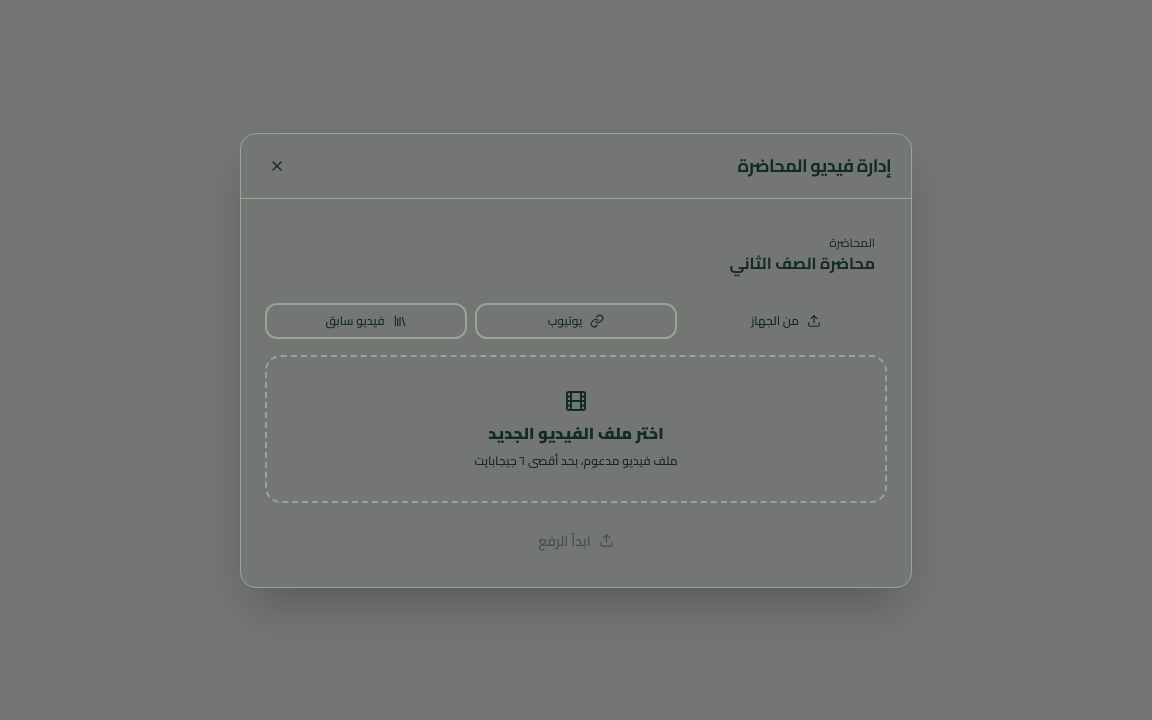
Test: reusing an uploaded video › finds an older uploaded video through server search
The width and height of the screenshot is (1152, 720).
Click the button "فيديو سابق" at (366, 320), box [265, 302, 467, 338]
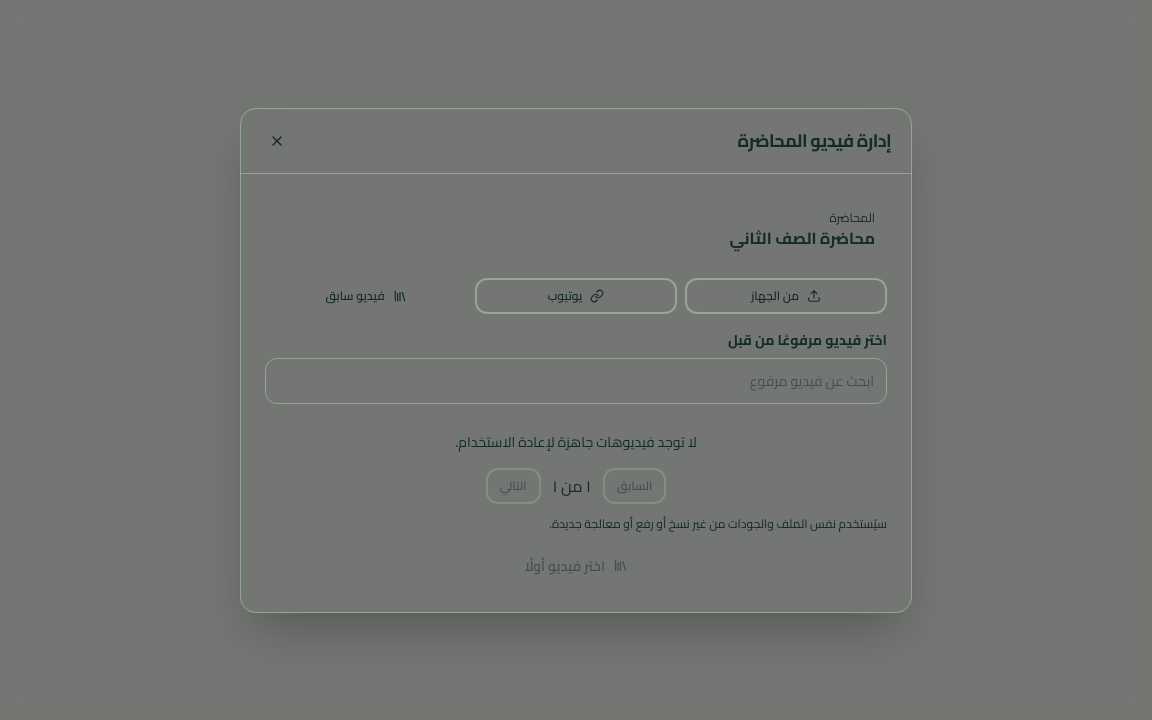
Type "النحو" into the search field with placeholder "ابحث عن فيديو مرفوع" at (576, 380), box [265, 358, 887, 404]
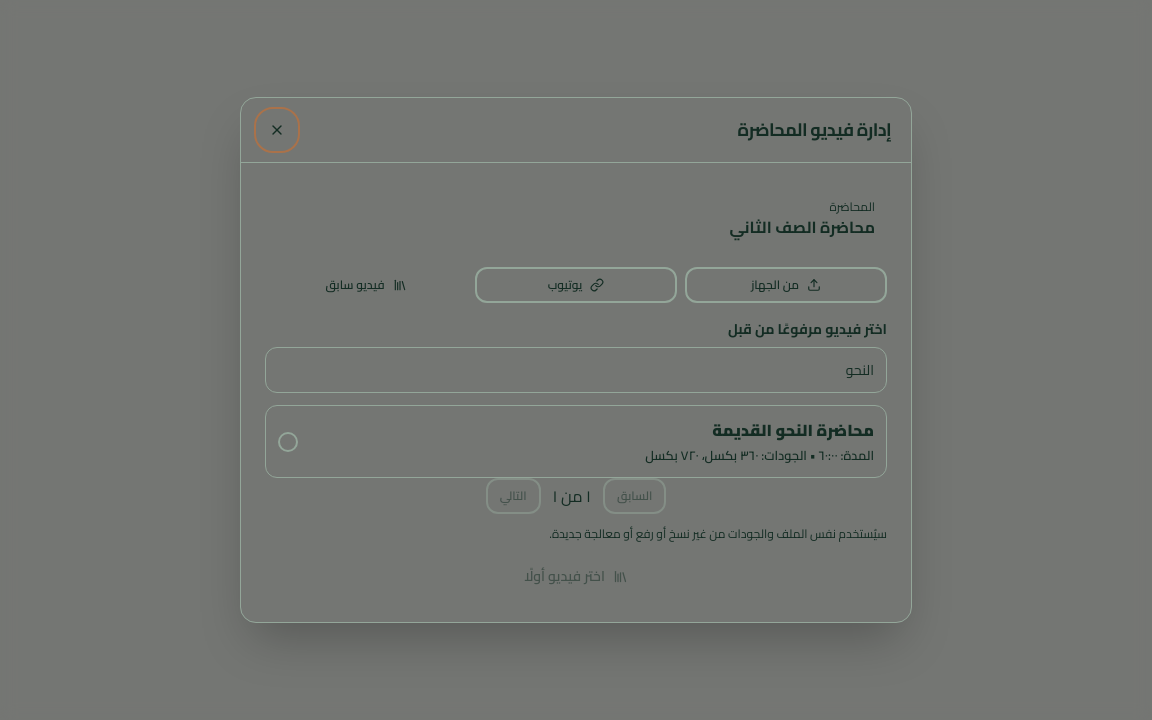
Now the radio button labelled "محاضرة النحو القديمة" is shown, box [265, 405, 887, 478]
